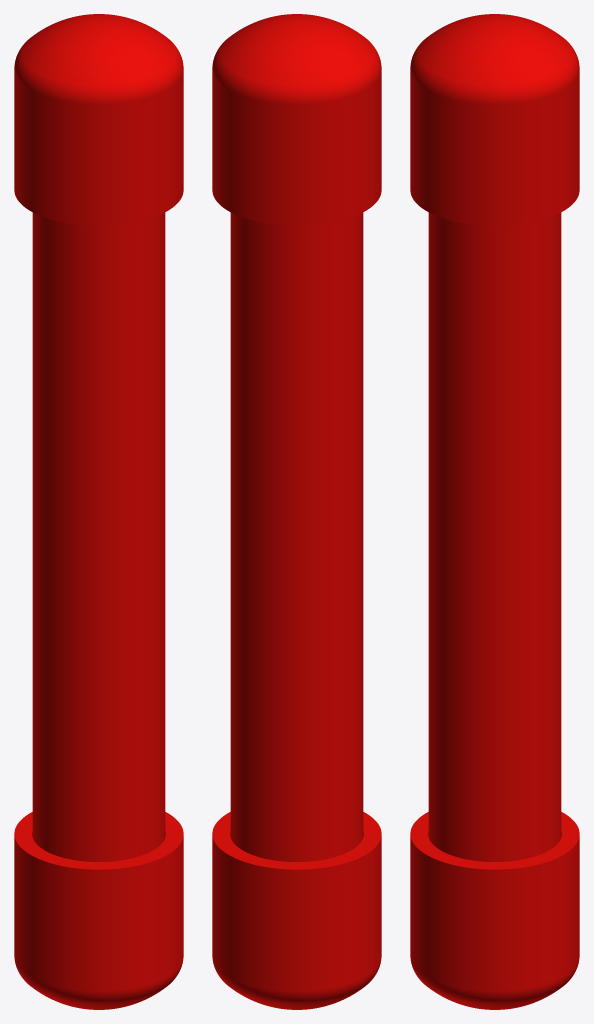
File: worm.dae
The picture shows the model from 3 angles, left to right: view 1: azimuth 30°, elevation 25°; view 2: azimuth 150°, elevation 25°; view 3: azimuth 270°, elevation 25°; orthographic projection.
Parts seen in each view (by area): view 1: worm; view 2: worm; view 3: worm.
Part boxes in pixels (x1,y1,x2,y2): worm: (14,14,183,1009); worm: (212,14,381,1009); worm: (410,14,579,1009).
Bounding box in the file's own units: 0.0272 × 0.0272 × 0.1732.
